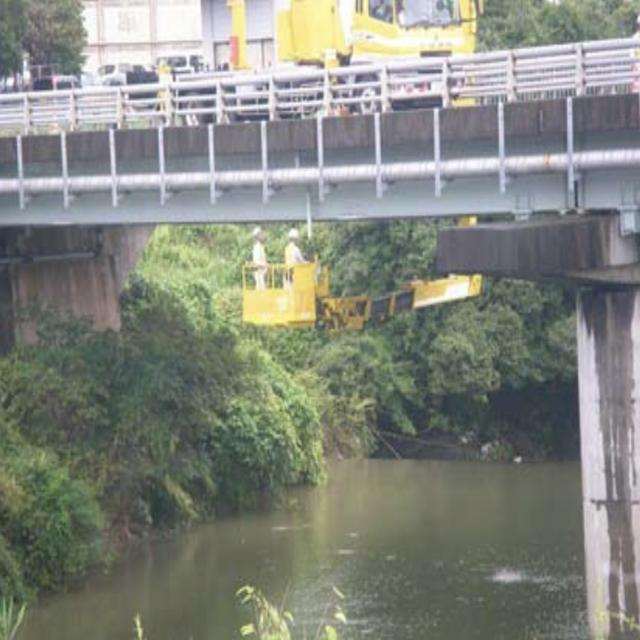spalling: (588, 281, 640, 625)
